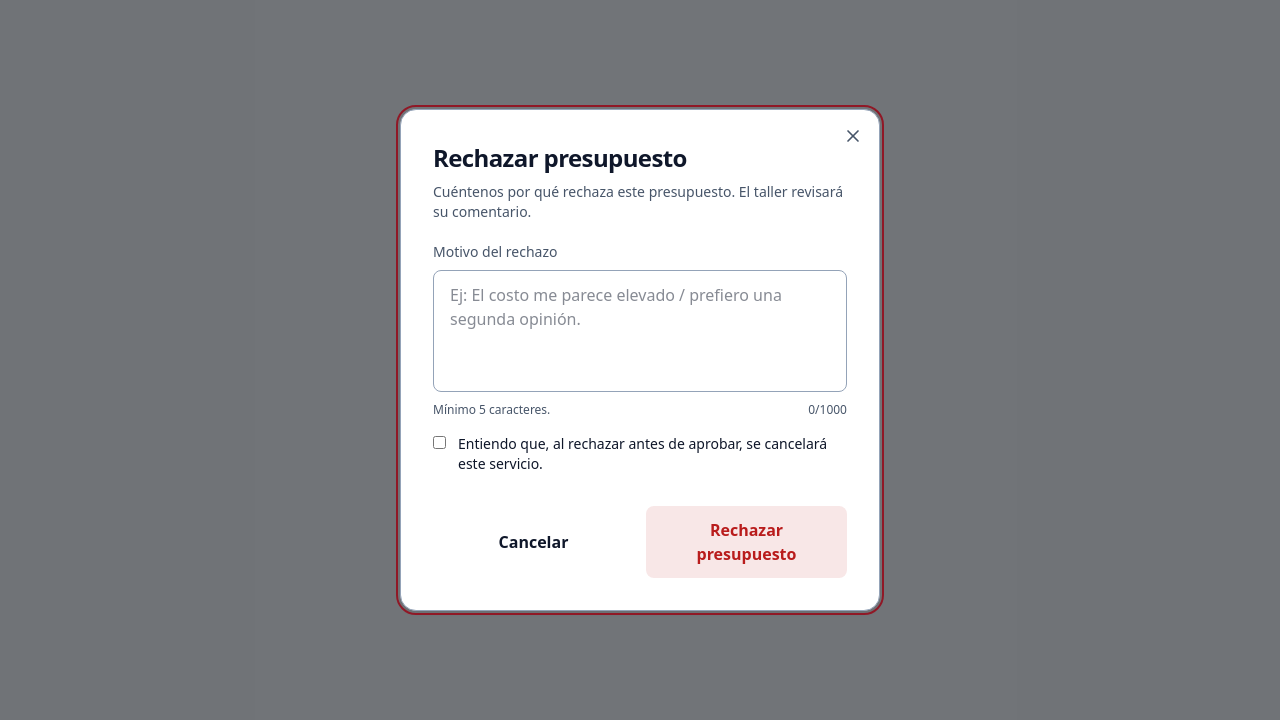
Test: RejectBudgetDialog: rechazo accesible › asocia el error del motivo con el campo y lo anuncia
The width and height of the screenshot is (1280, 720).
Click the button "Rechazar presupuesto". click: click(746, 542)
box: x1=646 y1=506 x2=847 y2=578
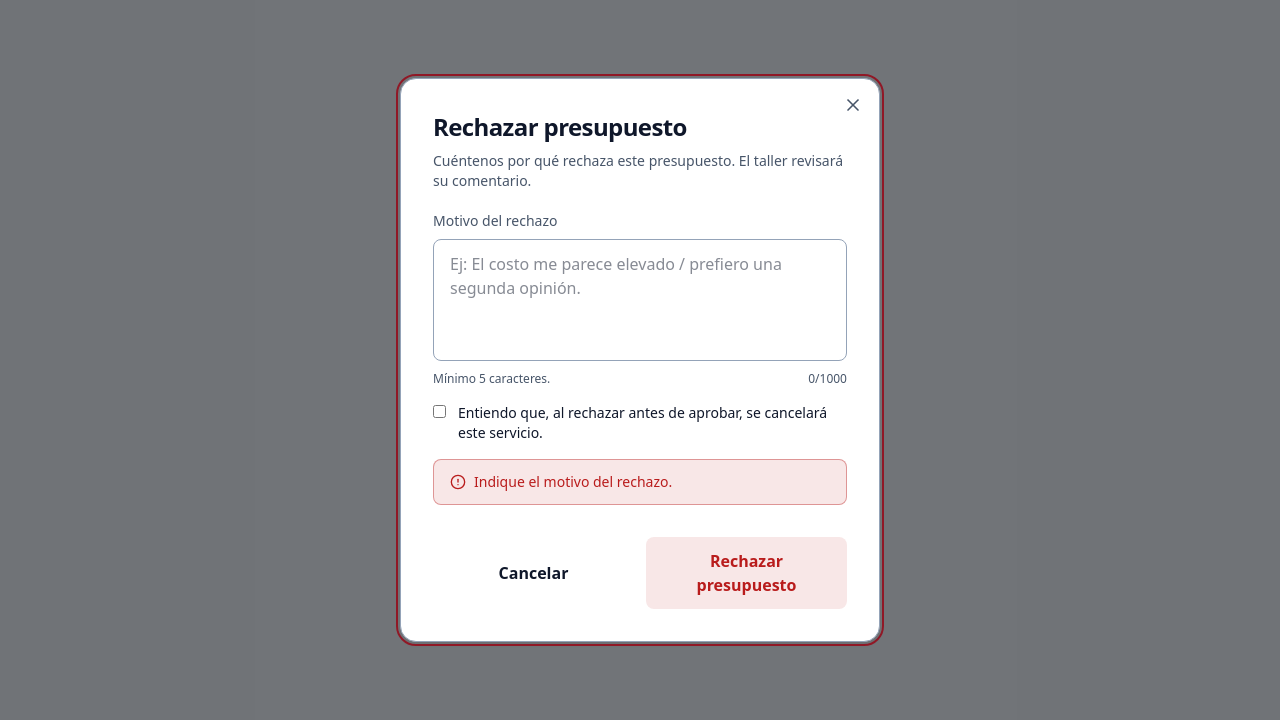
Now the message reads "Indique el motivo del rechazo.", box x1=474 y1=472 x2=672 y2=491
